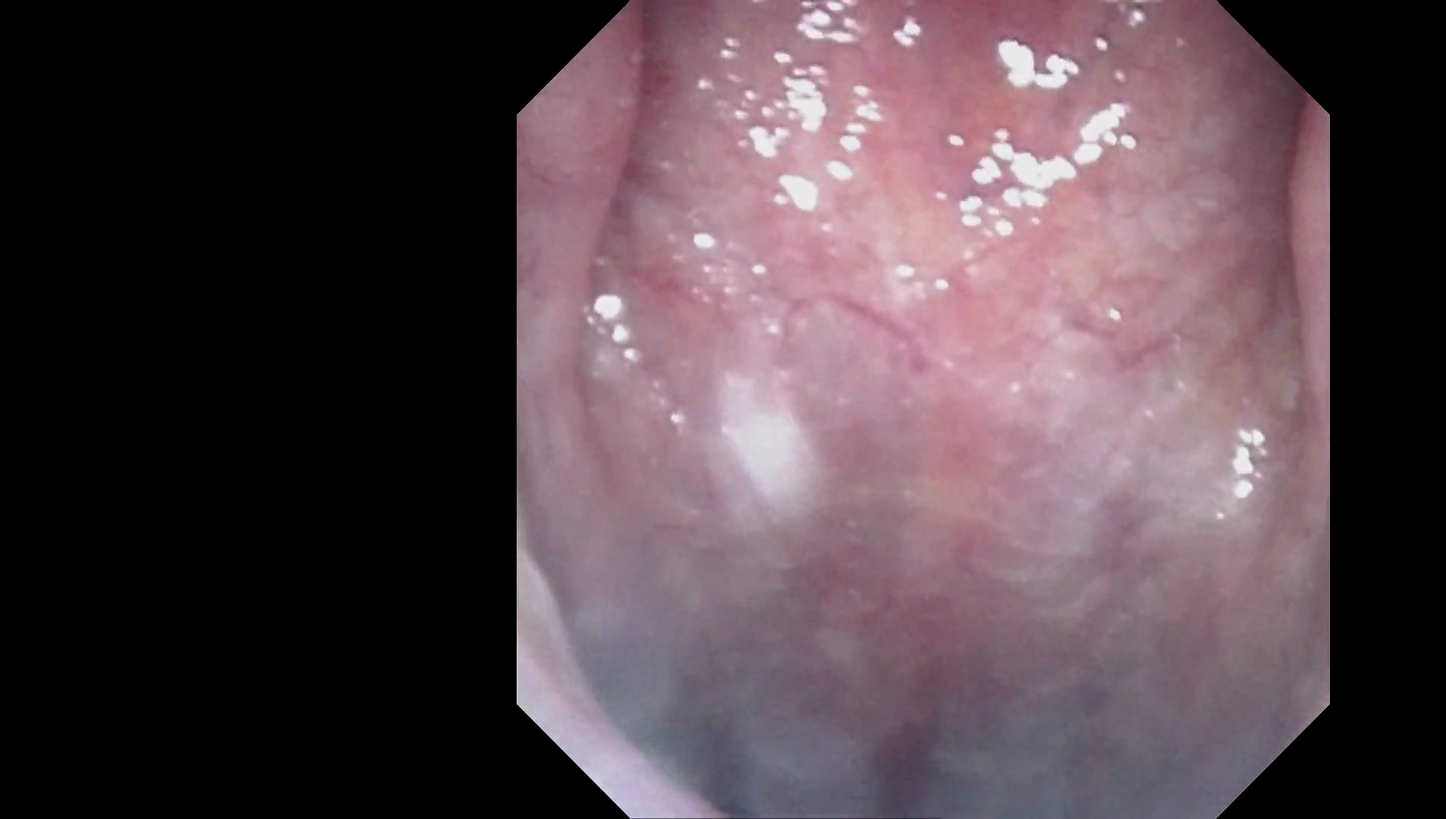next: (593, 672, 858, 819)
